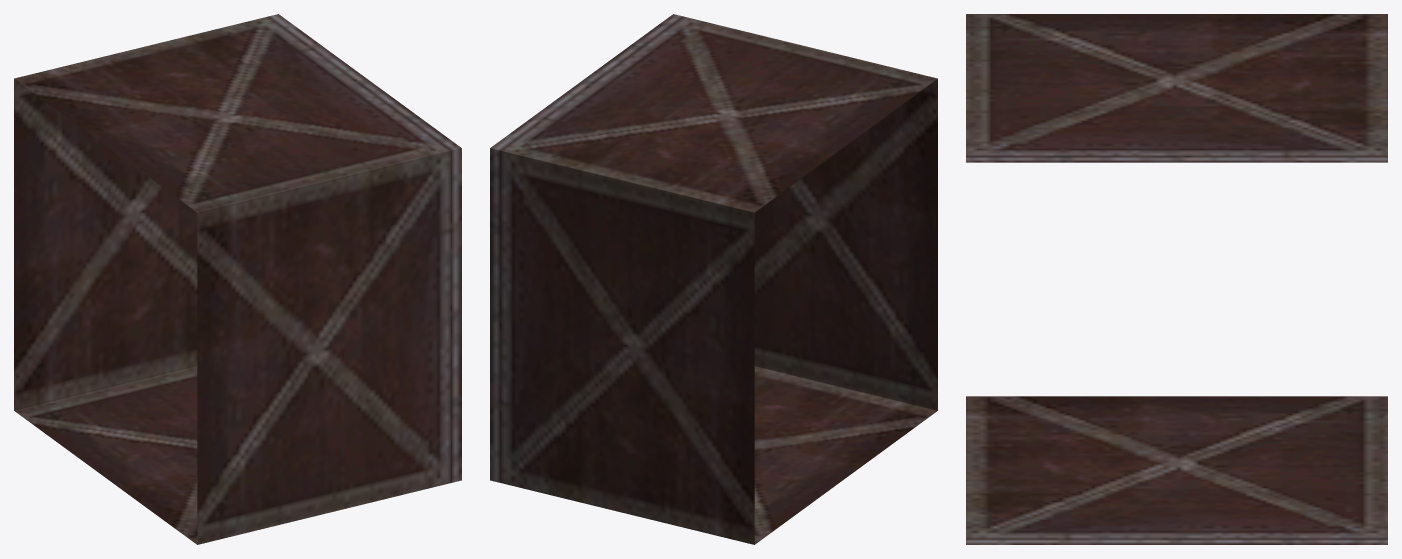
Rendered from supports_sign_1m.fbx.
3 renders of one model, left to right at view 1: azimuth 30°, elevation 25°; view 2: azimuth 150°, elevation 25°; view 3: azimuth 270°, elevation 25°, orthographic. The views are drawn at different scales.
Parts seen in each view (by area): view 1: mesh_0; view 2: mesh_0; view 3: mesh_0.
Part boxes in pixels (x1,y1,x2,y2): mesh_0: [14, 14, 461, 544]; mesh_0: [490, 14, 937, 544]; mesh_0: [966, 14, 1387, 544].
Size of the model in its own units: 100 by 120 by 120.
Materials: 1 (1 with a texture image).
